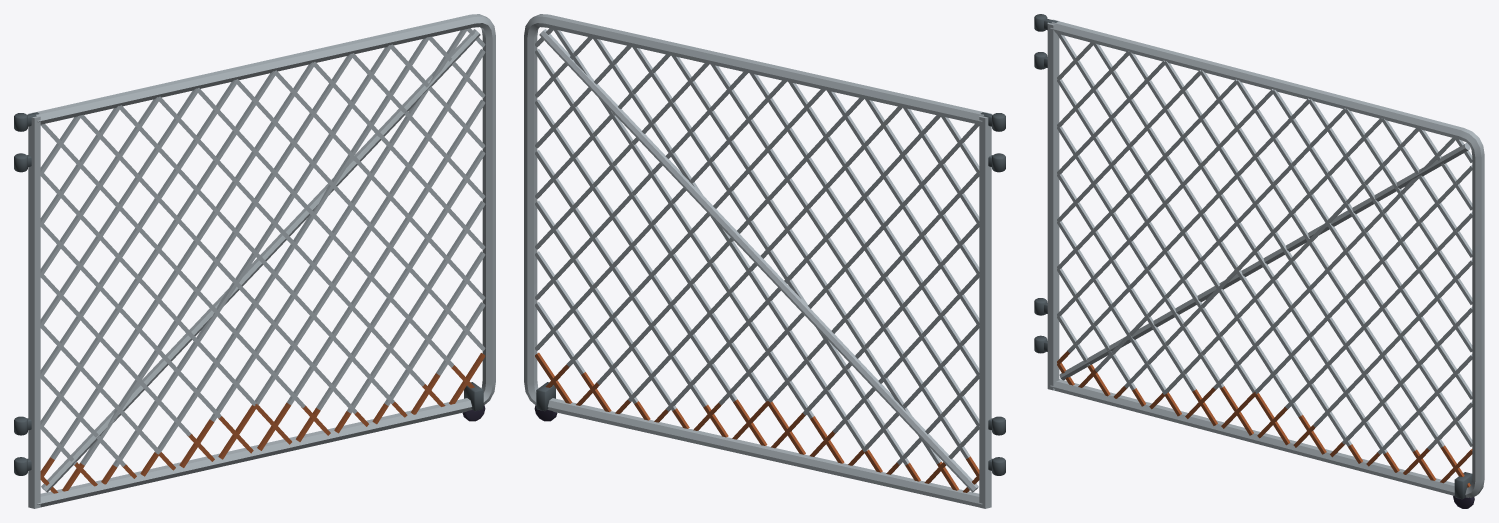
File: fence_gate_leaf.glb
3 views of the same model, side by side, from view 1: azimuth 30°, elevation 25°; view 2: azimuth 150°, elevation 25°; view 3: azimuth 330°, elevation 25° (orthographic). The views are drawn at different scales.
Visible parts, largest first — view 1: Leaf; view 2: Leaf; view 3: Leaf.
Part boxes in pixels (box(x1,y1,x2,y2)): Leaf: box(14, 14, 495, 508); Leaf: box(524, 14, 1005, 508); Leaf: box(1034, 14, 1484, 508).
Size of the model in its own units: 2.48 by 2.06 by 0.1.
